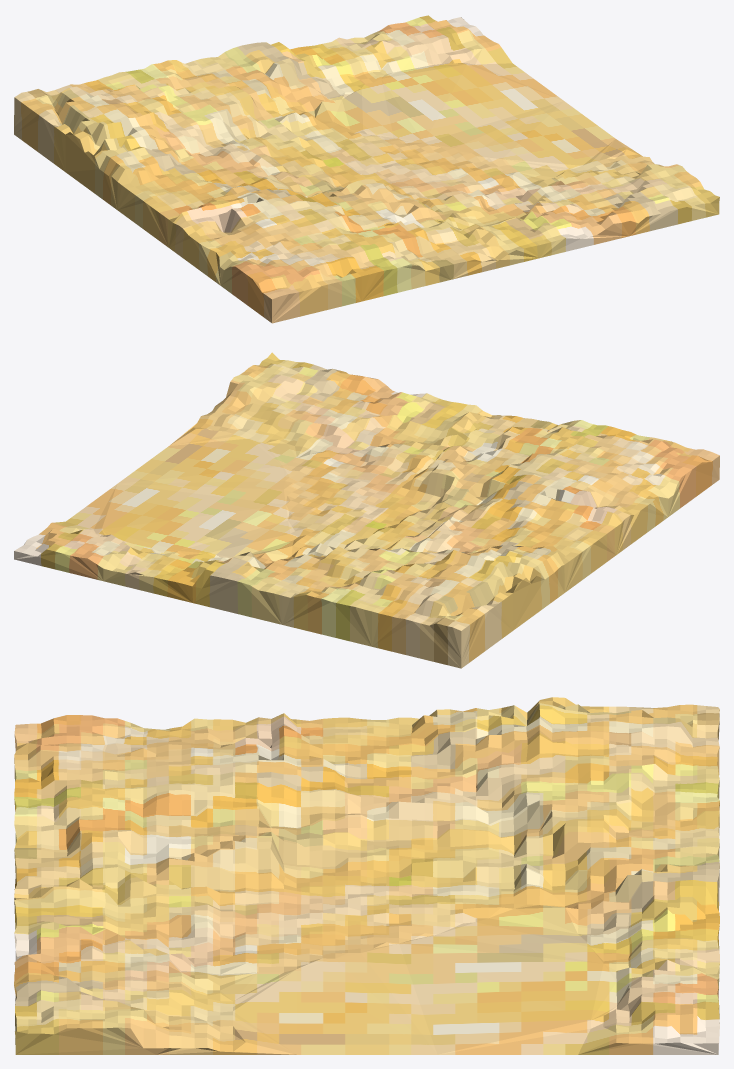
Rendered from Beach_Sand.fbx.
3 renders of one model, top to bottom at view 1: azimuth 30°, elevation 25°; view 2: azimuth 150°, elevation 25°; view 3: azimuth 270°, elevation 25°, orthographic. The views are drawn at different scales.
Visible parts, largest first — view 1: Sand; view 2: Sand; view 3: Sand.
Boxes of the visible parts, x1=… form: Sand: x1=14, y1=15, x2=719, y2=323; Sand: x1=14, y1=352, x2=719, y2=668; Sand: x1=14, y1=697, x2=719, y2=1054.
Bounding box in the file's own units: 8286 × 933 × 8286.
